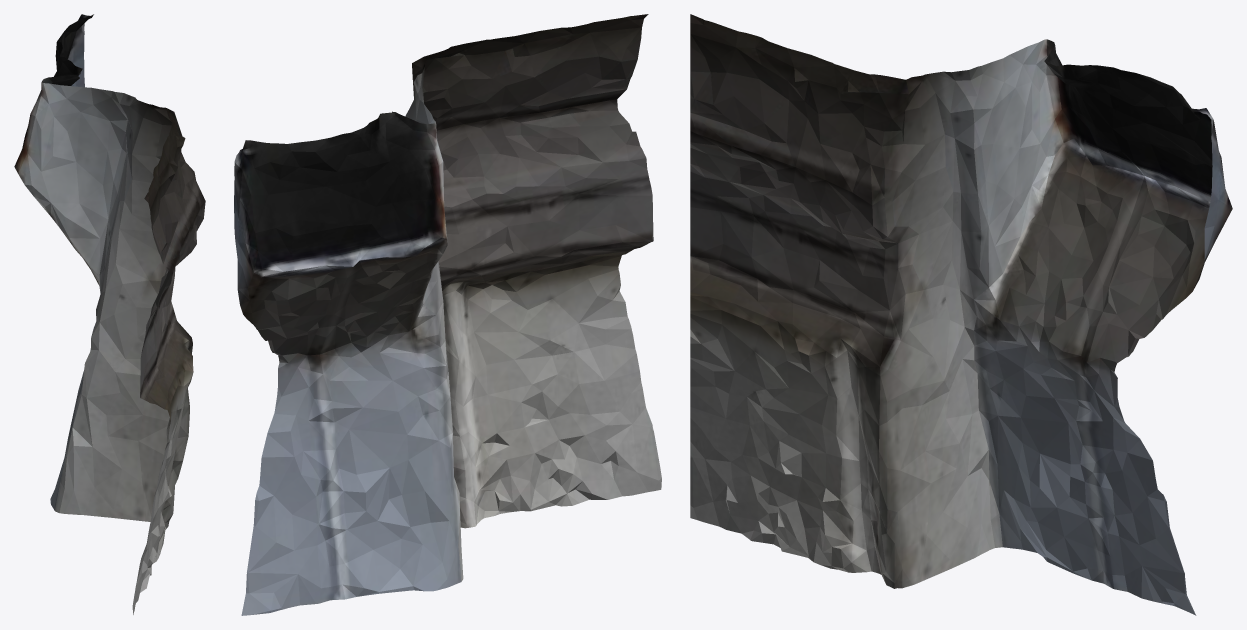
The picture shows the model from 3 angles, left to right: view 1: azimuth 30°, elevation 25°; view 2: azimuth 150°, elevation 25°; view 3: azimuth 270°, elevation 25°; orthographic projection. The views are drawn at different scales.
Size of the model in its own units: 0.3454 by 0.8374 by 0.8061.
Materials: 3 (3 with a texture image).
